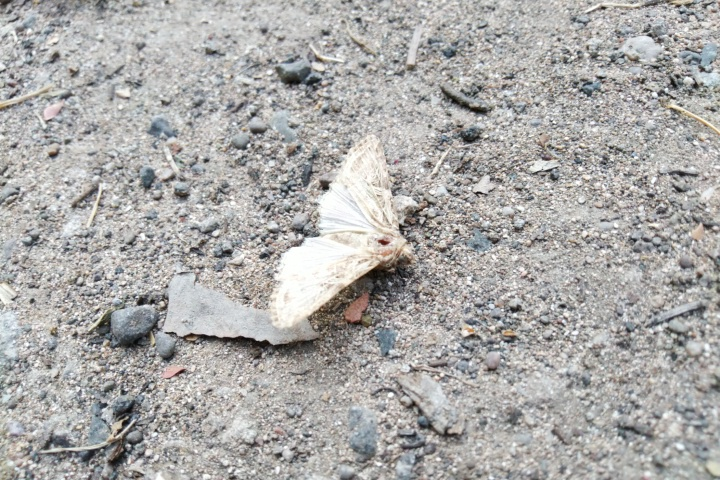INS-B: (258, 131, 418, 334)
